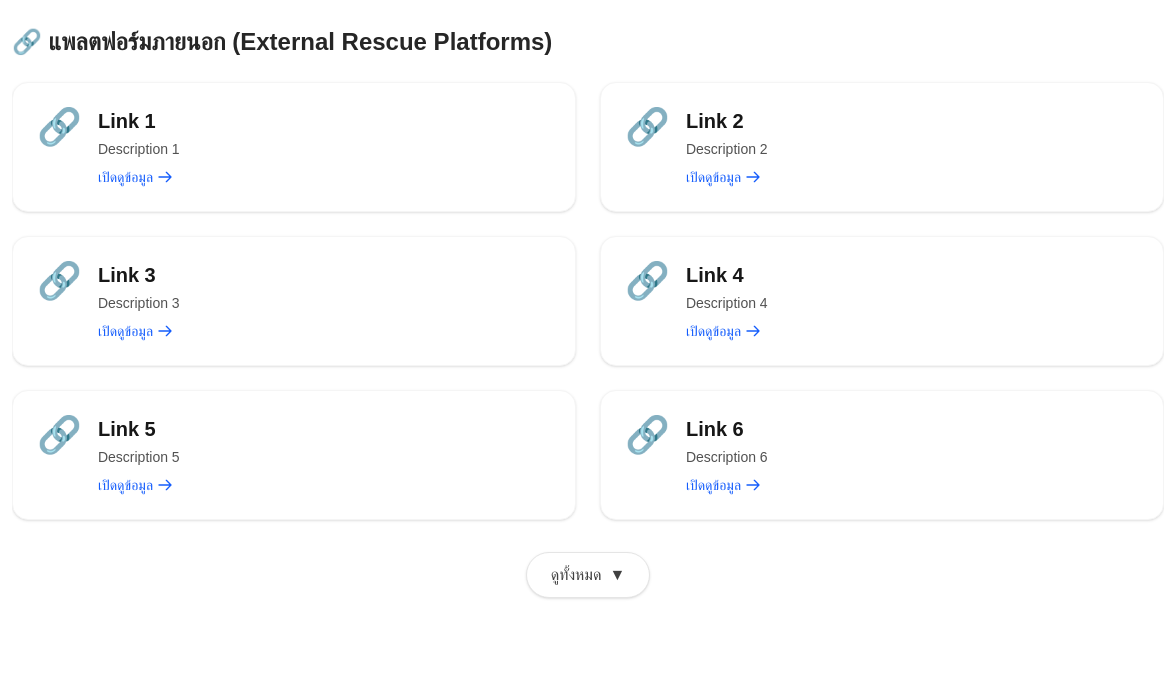
Test: ExternalLinksSection › toggles show all links
The width and height of the screenshot is (1164, 698).
Click to show all
Click the text "ดูทั้งหมด": (576, 575) [551,563,602,587]
(page scrolled)
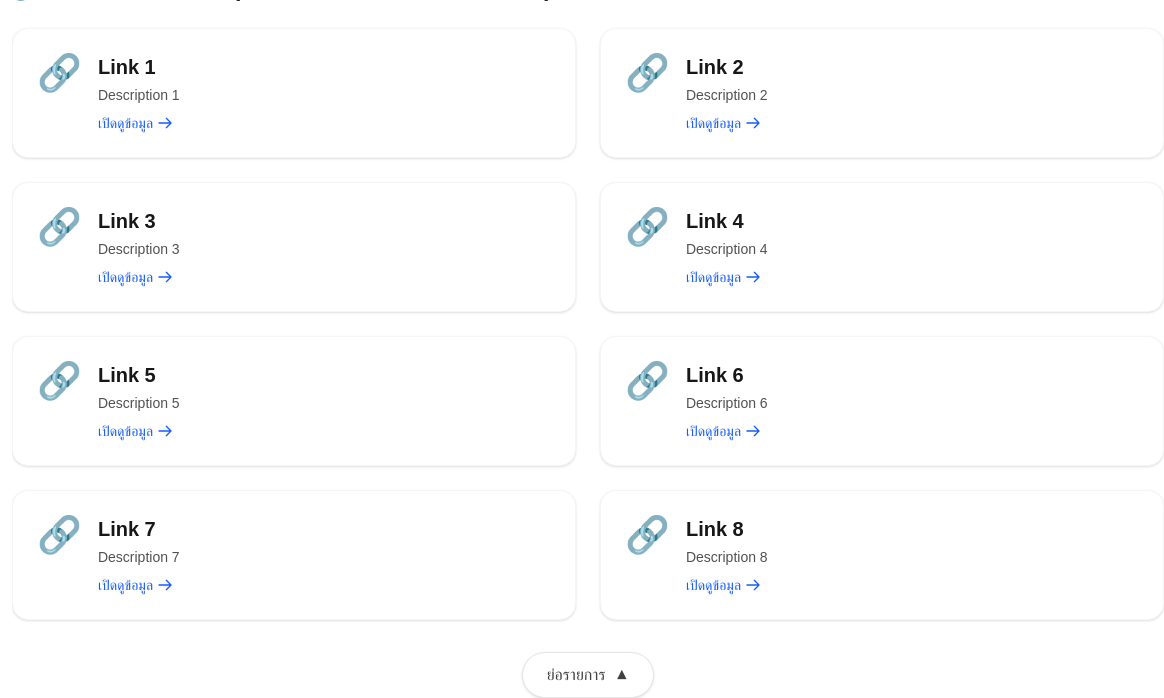
Check: the heading "Link 7" is shown, box [98,518,156,540]
Check: the text "ย่อรายการ" is shown
Click to collapse
Click the text "ย่อรายการ": (576, 675) [547,663,606,687]
(page scrolled)
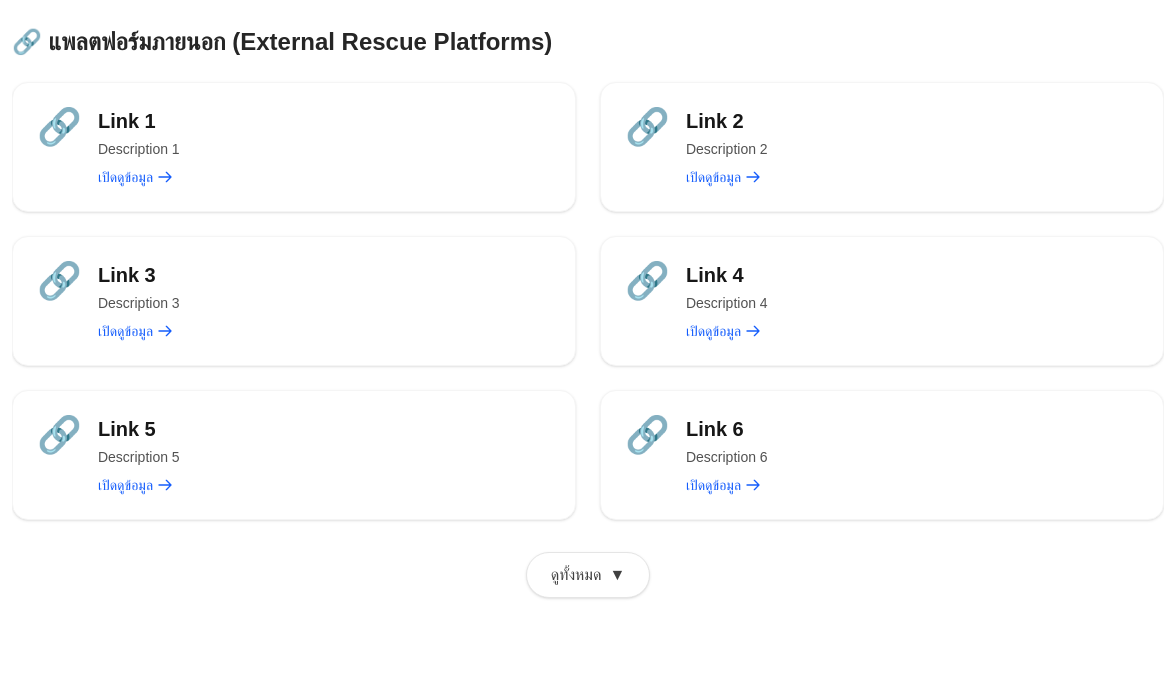
Check: the link "Link 7" is gone
Check: the text "ดูทั้งหมด" is shown, box [551,563,602,587]
